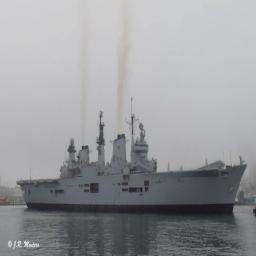Portanaves: (16, 94, 251, 217)
